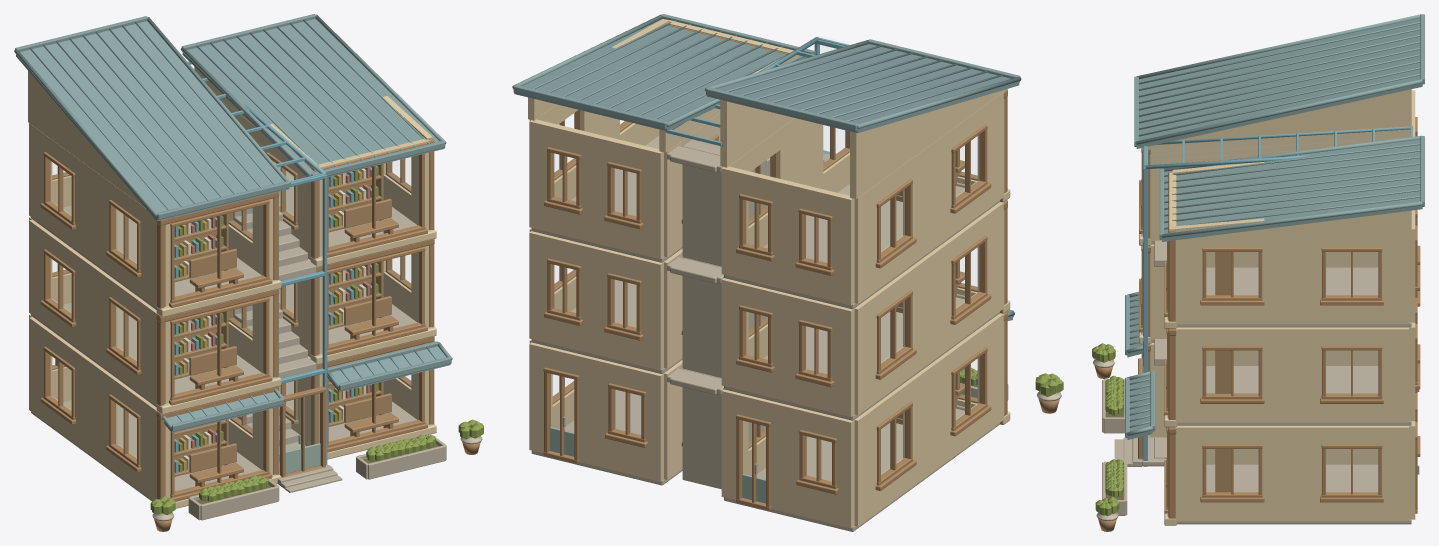
The picture shows the model from 3 angles, left to right: view 1: azimuth 30°, elevation 25°; view 2: azimuth 150°, elevation 25°; view 3: azimuth 270°, elevation 25°; orthographic projection. The views are drawn at different scales.
Visible parts, largest first — view 1: SM_05_01_建筑墙体, SM_05_02_曲面屋顶, SM_05_04_门窗楼梯, SM_05_06_景观设施, SM_05_03_木构回廊, SM_05_05_景观植物; view 2: SM_05_01_建筑墙体, SM_05_04_门窗楼梯, SM_05_02_曲面屋顶, SM_05_03_木构回廊, SM_05_05_景观植物, SM_05_06_景观设施; view 3: SM_05_01_建筑墙体, SM_05_02_曲面屋顶, SM_05_04_门窗楼梯, SM_05_05_景观植物, SM_05_03_木构回廊, SM_05_06_景观设施.
Boxes of the visible parts, x1,y1,x2,y2 form: SM_05_01_建筑墙体: (28,66,436,508); SM_05_02_曲面屋顶: (14,14,452,432); SM_05_04_门窗楼梯: (40,61,427,501); SM_05_06_景观设施: (174,164,398,487); SM_05_03_木构回廊: (156,138,434,499); SM_05_05_景观植物: (150,419,483,531); SM_05_01_建筑墙体: (528,19,1010,531); SM_05_04_门窗楼梯: (543,37,991,510); SM_05_02_曲面屋顶: (512,14,1021,320); SM_05_03_木构回廊: (666,19,1007,424); SM_05_05_景观植物: (960,367,1063,413); SM_05_06_景观设施: (896,149,964,424); SM_05_01_建筑墙体: (1139,89,1415,525); SM_05_02_曲面屋顶: (1125,14,1424,439); SM_05_04_门窗楼梯: (1114,117,1420,513); SM_05_05_景观植物: (1092,343,1127,531); SM_05_03_木构回廊: (1143,147,1176,524); SM_05_06_景观设施: (1140,182,1231,492).
Bounding box in the file's own units: 10.72 × 11.19 × 9.19.
